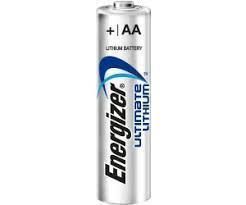AA: (94, 0, 154, 204)
